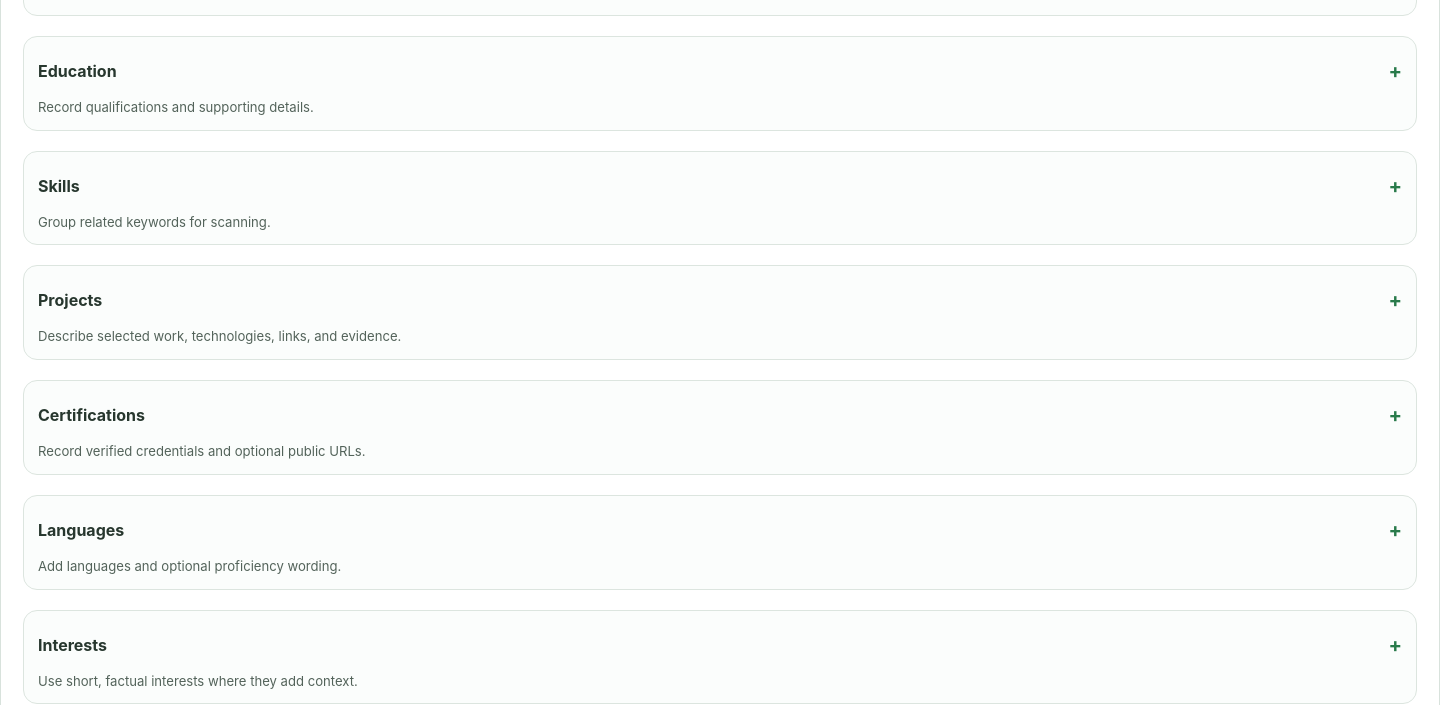
ResumeEditor section navigation › uses the established full-width form styling for project links and interests
The width and height of the screenshot is (1440, 705).
(page scrolled)
Click the button "Projects +" at (70, 300), box x1=38 y1=278 x2=1402 y2=322
(page scrolled)
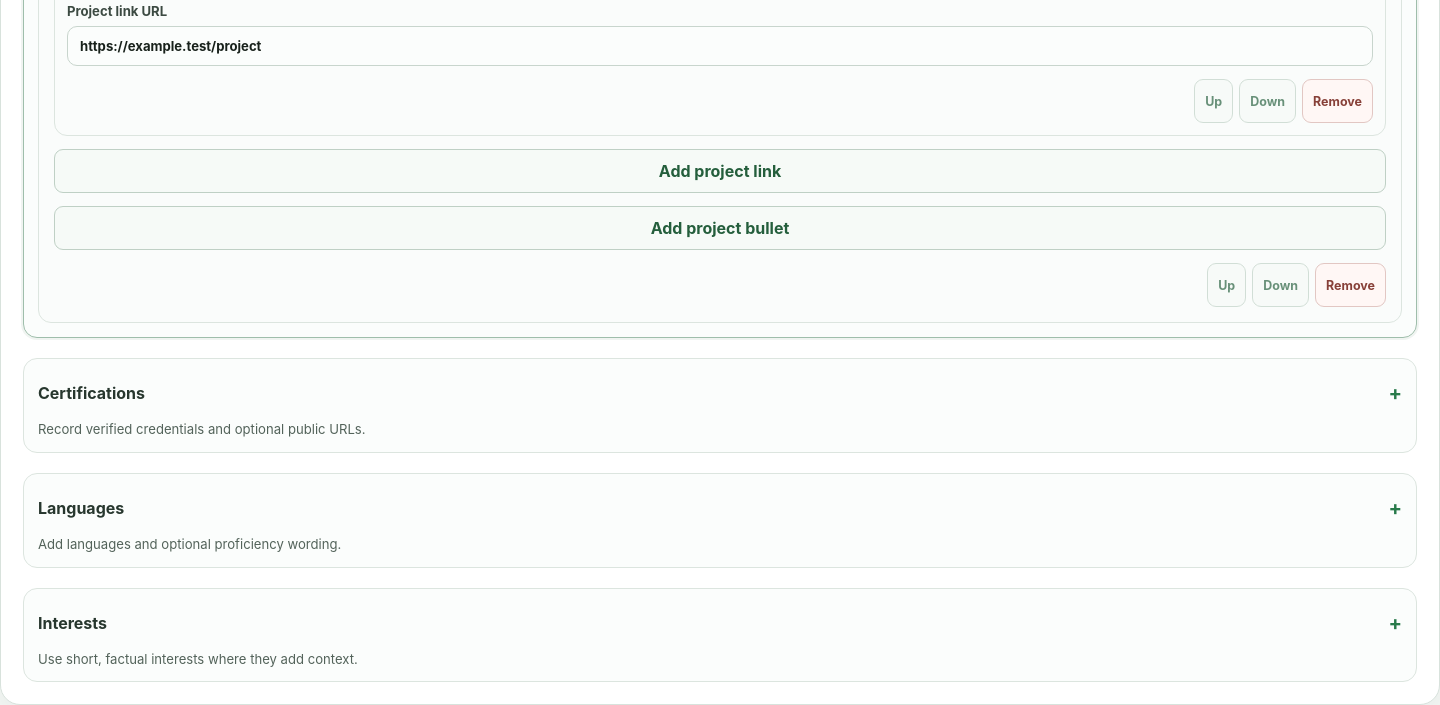
Click the button "Interests +" at (73, 622), box x1=38 y1=600 x2=1402 y2=644
(page scrolled)
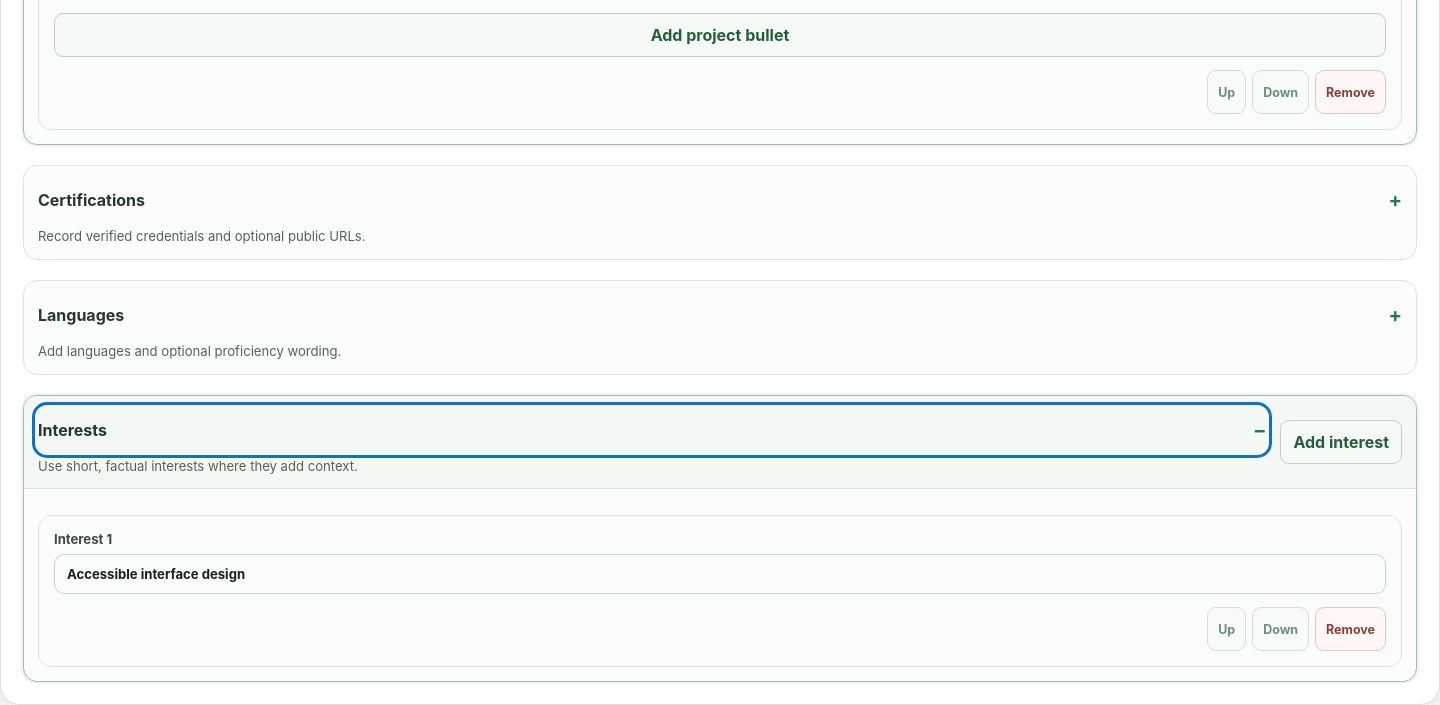
Expected: the label "Interest 1" is shown, x1=54 y1=531 x2=1386 y2=594
